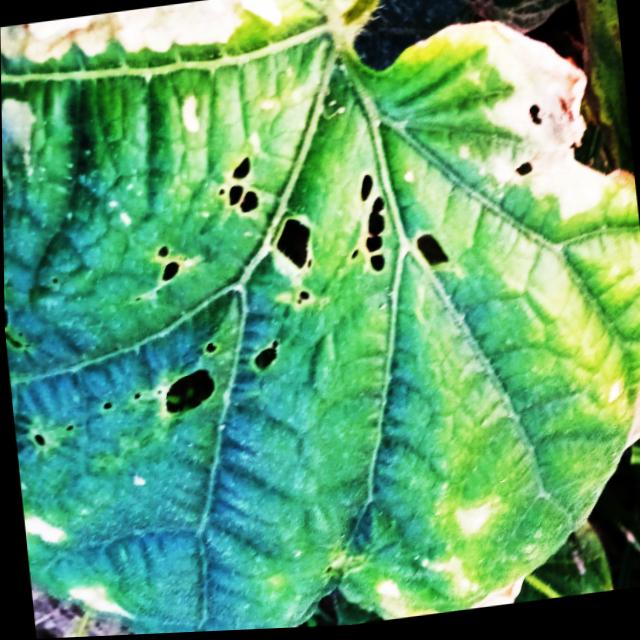Anthracnose: (132, 140, 334, 428), (351, 158, 452, 291), (505, 99, 552, 185)
